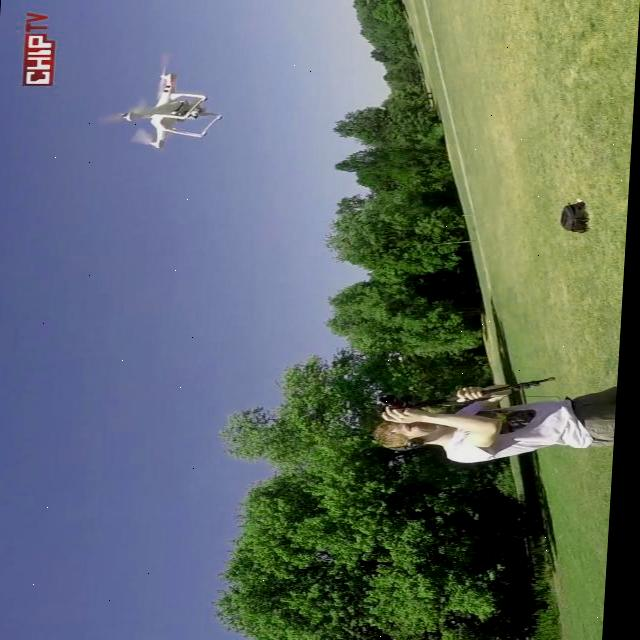drone: (117, 70, 229, 148)
